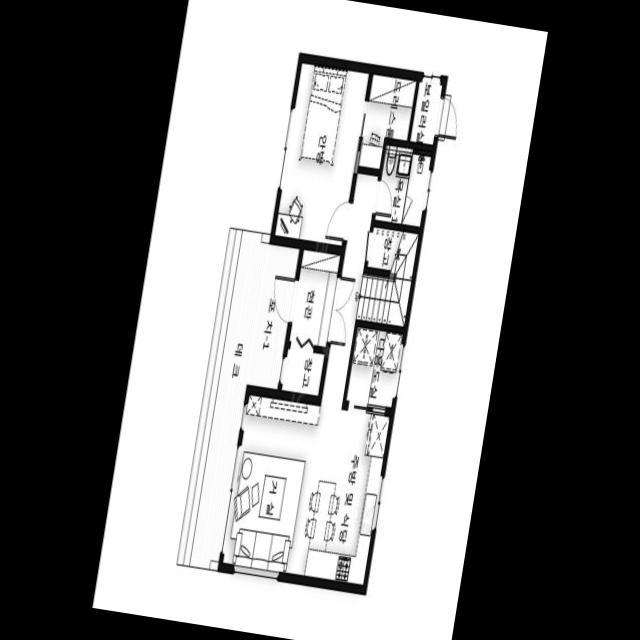background: (92, 0, 548, 640)
space_bedroom: (275, 63, 369, 246)
space_dressroom: (358, 74, 416, 169)
space_front: (289, 250, 340, 347)
space_kitchen: (314, 409, 390, 585)
space_living_room: (222, 173, 378, 577)
space_multipurpose_space: (346, 327, 403, 408)
space_other: (281, 349, 324, 396), (410, 82, 442, 145), (367, 227, 404, 271)
space_staircase: (355, 232, 418, 327)
space_toilet: (375, 145, 432, 227)
